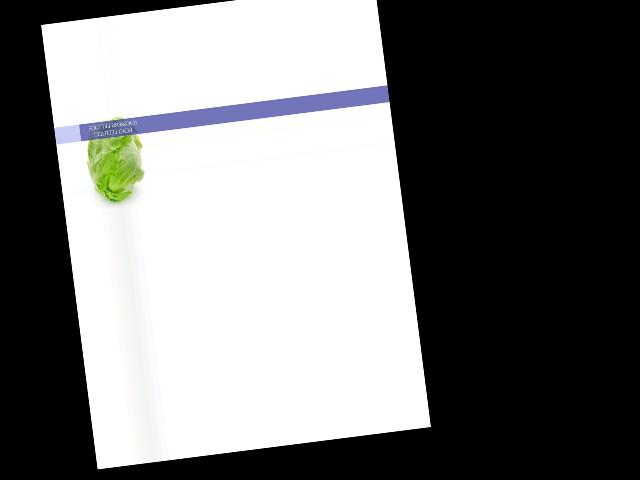lettuce: (84, 114, 149, 208)
